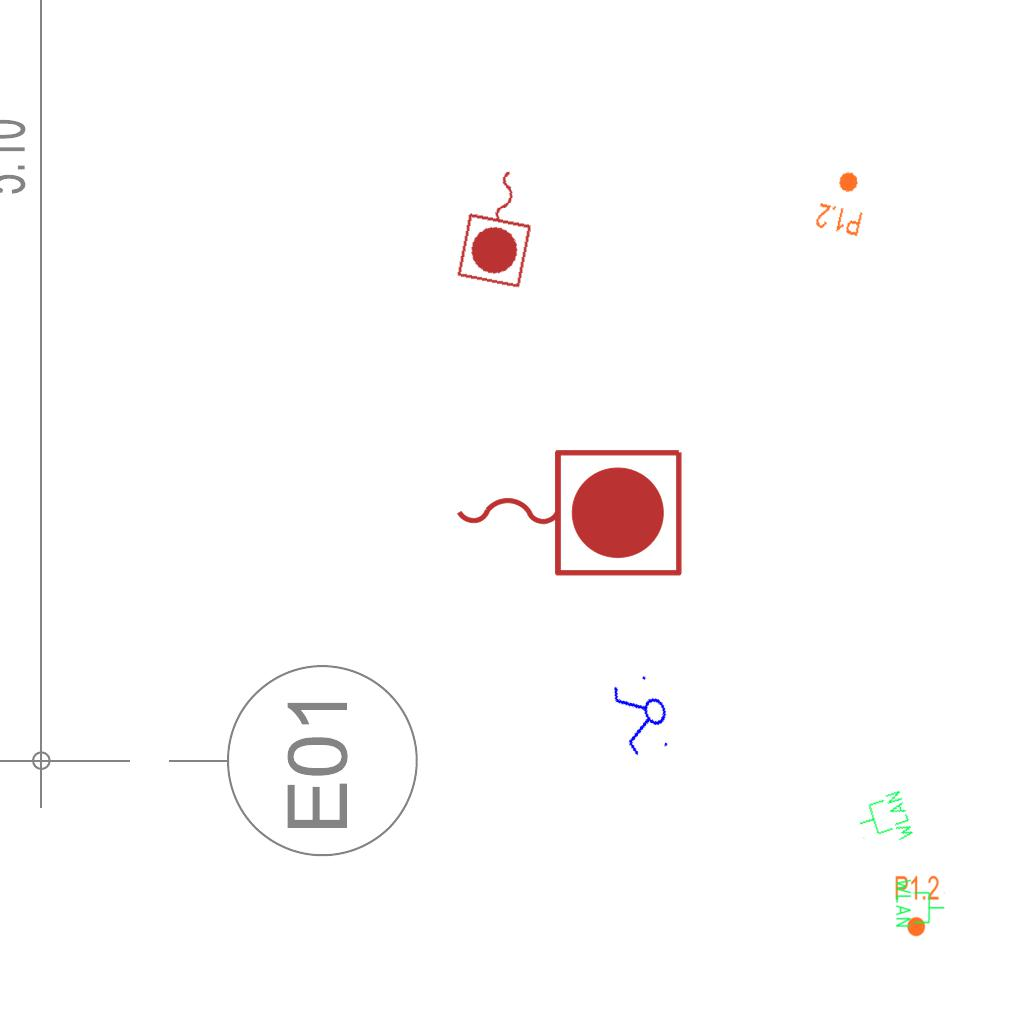Downlight_LED_Einbauleuchten_Flur: (813, 165, 873, 239), (894, 874, 940, 938)
Serienschalter: (607, 668, 679, 764)
WLAN: (851, 788, 917, 854), (894, 877, 946, 929)
Zugtaster: (446, 439, 690, 583), (453, 159, 547, 293)
